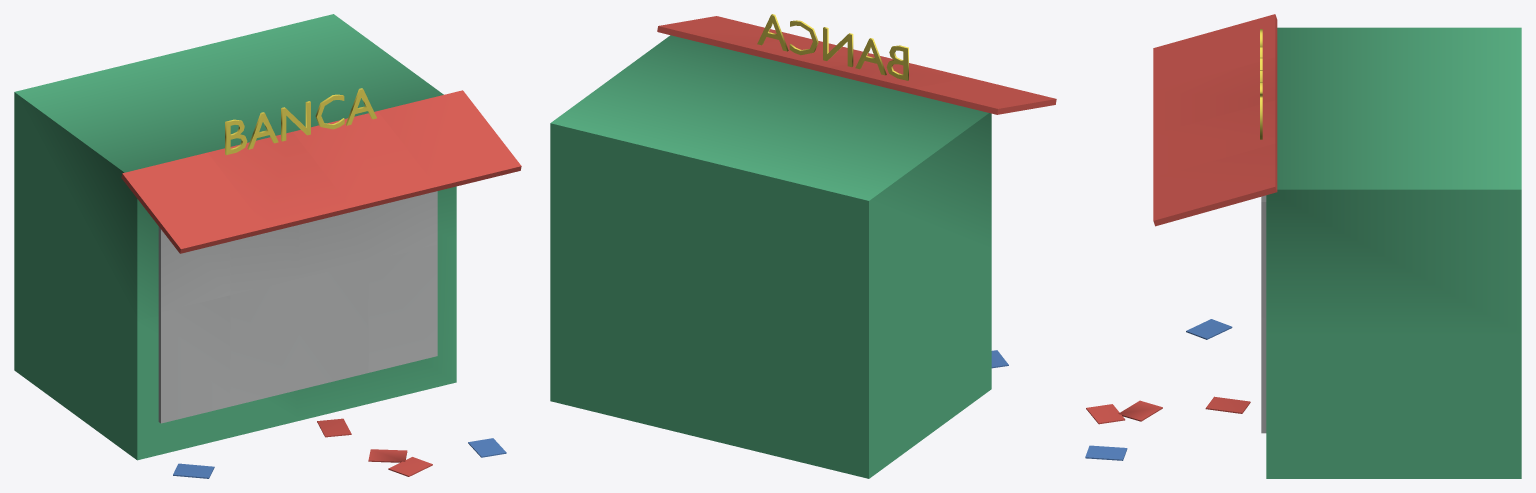
Rendered from banca.glb.
3 views of the same model, side by side, from view 1: azimuth 30°, elevation 25°; view 2: azimuth 150°, elevation 25°; view 3: azimuth 270°, elevation 25° (orthographic). The views are drawn at different scales.
Parts seen in each view (by area): view 1: ext, detalhe; view 2: ext, detalhe; view 3: ext, detalhe.
Boxes of the visible parts, bbox=[...] form: ext: bbox=[14, 14, 456, 460]; detalhe: bbox=[121, 88, 521, 478]; ext: bbox=[550, 35, 991, 478]; detalhe: bbox=[657, 14, 1056, 368]; ext: bbox=[1266, 27, 1521, 478]; detalhe: bbox=[1085, 14, 1277, 460].
Size of what is drawn, in the model's own units: 3.2 by 2.87 by 3.42.
